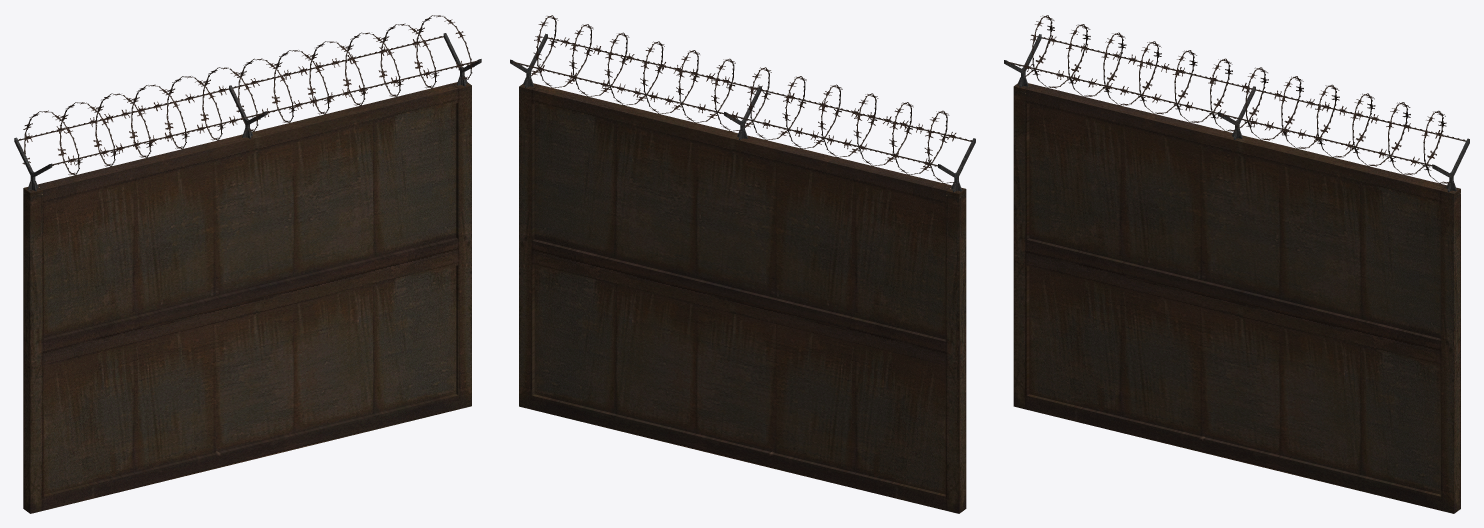
File: metal_fence_hr_2.glb
3 views of the same model, side by side, from view 1: azimuth 30°, elevation 25°; view 2: azimuth 150°, elevation 25°; view 3: azimuth 330°, elevation 25° (orthographic).
Parts seen in each view (by area): view 1: metal_fence_hr_2; view 2: metal_fence_hr_2; view 3: metal_fence_hr_2.
Part boxes in pixels (left/top/right/bottom): metal_fence_hr_2: left=14, top=15, right=481, bottom=513; metal_fence_hr_2: left=510, top=15, right=975, bottom=513; metal_fence_hr_2: left=1004, top=15, right=1469, bottom=513.
Size of the model in its own units: 3.6 by 3.06 by 0.5551.
3 materials, 3 textured.
